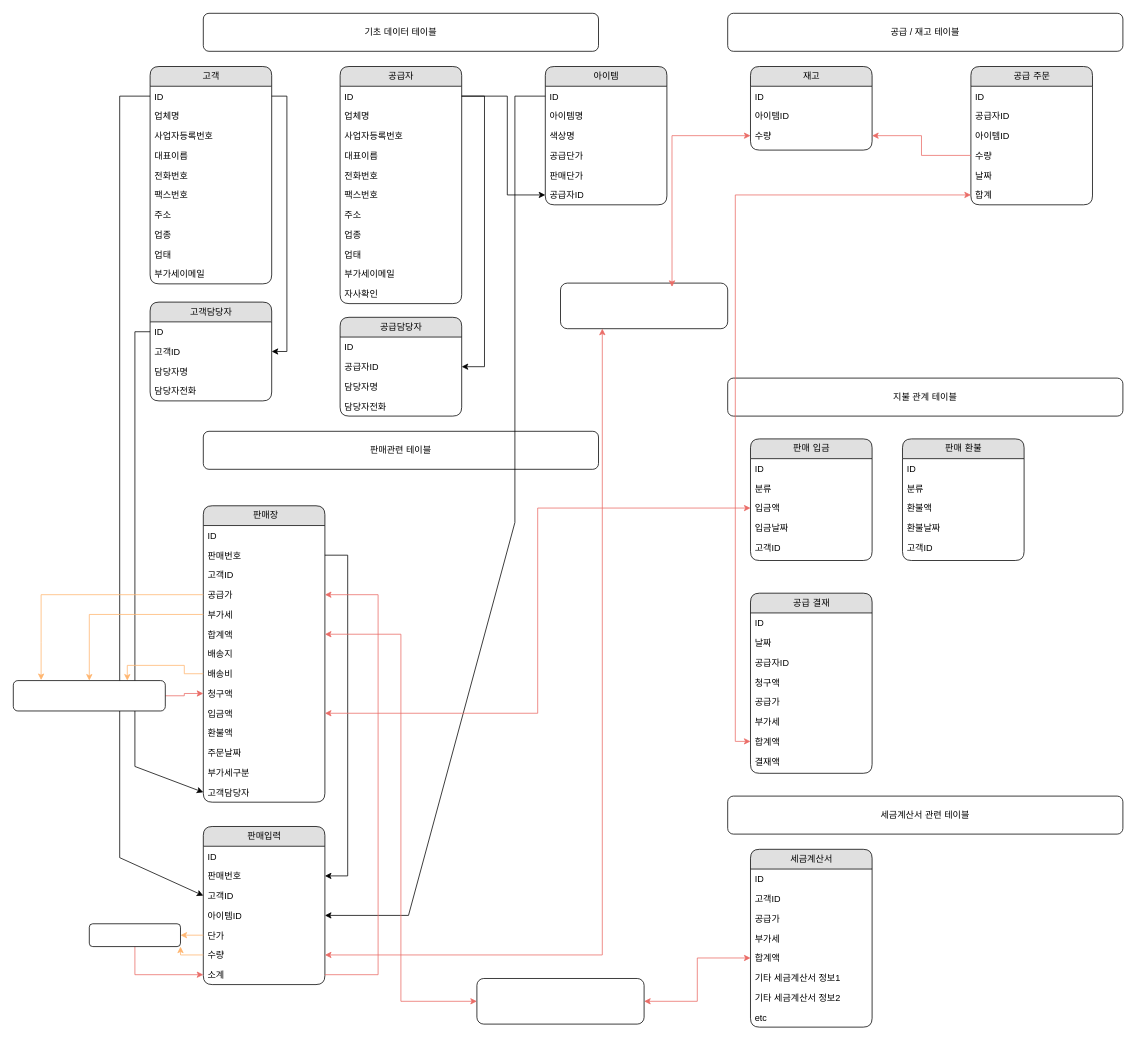
The diagram is 1136 pixels wide and 1043 high, and some of its shapes have lost their labels. The centre of each missing label's shape, as x and y in pixels:
"가공 과정이 필요, 이후 합계액 산출" belongs at pixel 560 1001.
"공급가 + 부가세 + 배송비 = 청구액" belongs at pixel 89 695.
"단가 x 수량 = 소계" belongs at pixel 134 935.
"재고: 입고 - 출고" belongs at pixel 644 305.
